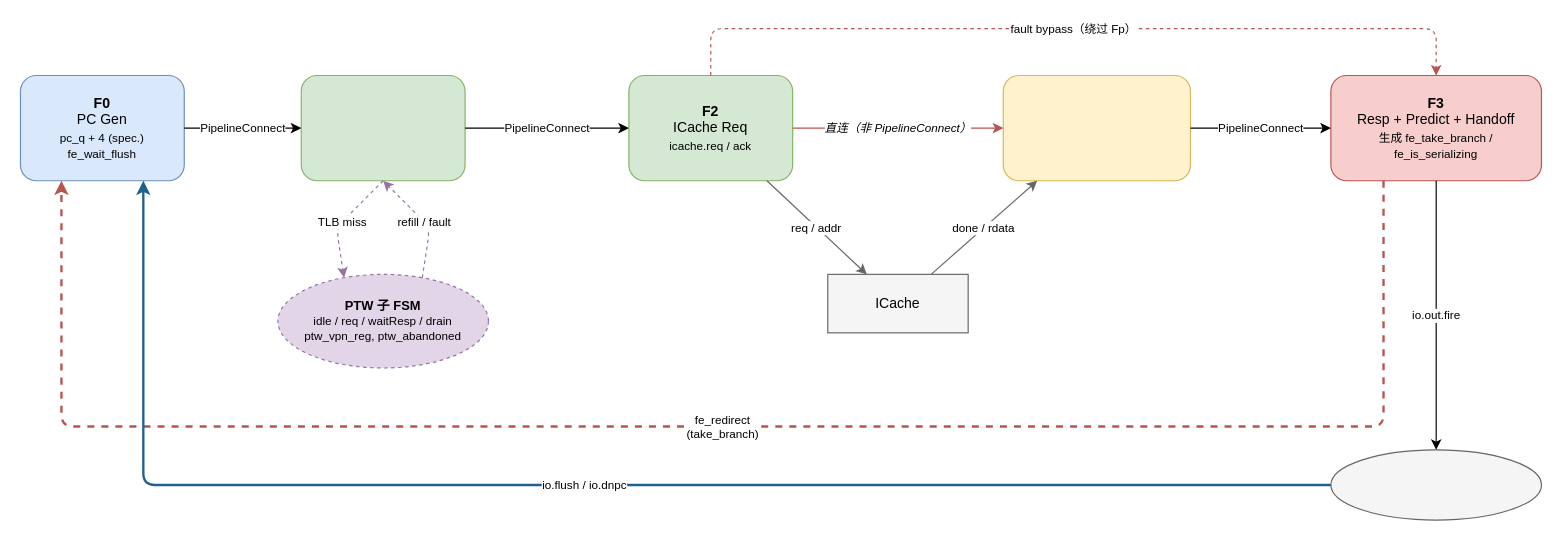
Image size: 1562x541. Some labels were removed from this diagram. Each missing label, with the centre of its shape:
"Back-end (指令队列)" goes at (x=1435, y=484).
"F1 iTLB Lookup Sv39 VPN→PPN" goes at (x=382, y=127).
"Fp Cache in-flight FIFO depth=4 circular rdata 按序回填" goes at (x=1096, y=127).
